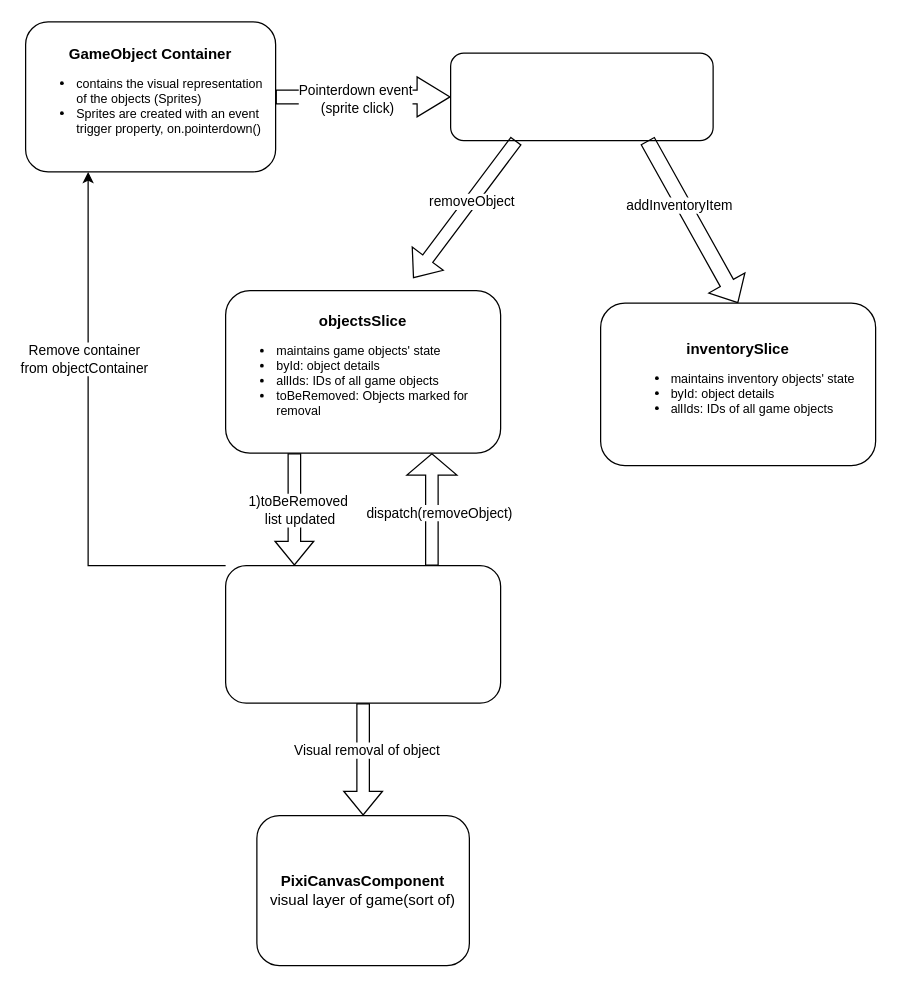
This 898x988 diagram has some shape labels left out. Each missing label, with the centre of its shape:
"handleObjectClick Thunk process combined logic after game object is clicked" belongs at (x=581, y=96).
"useRemoveItems Observes changes in toBeRemoved Visually removes game objects" belongs at (x=362, y=633).
